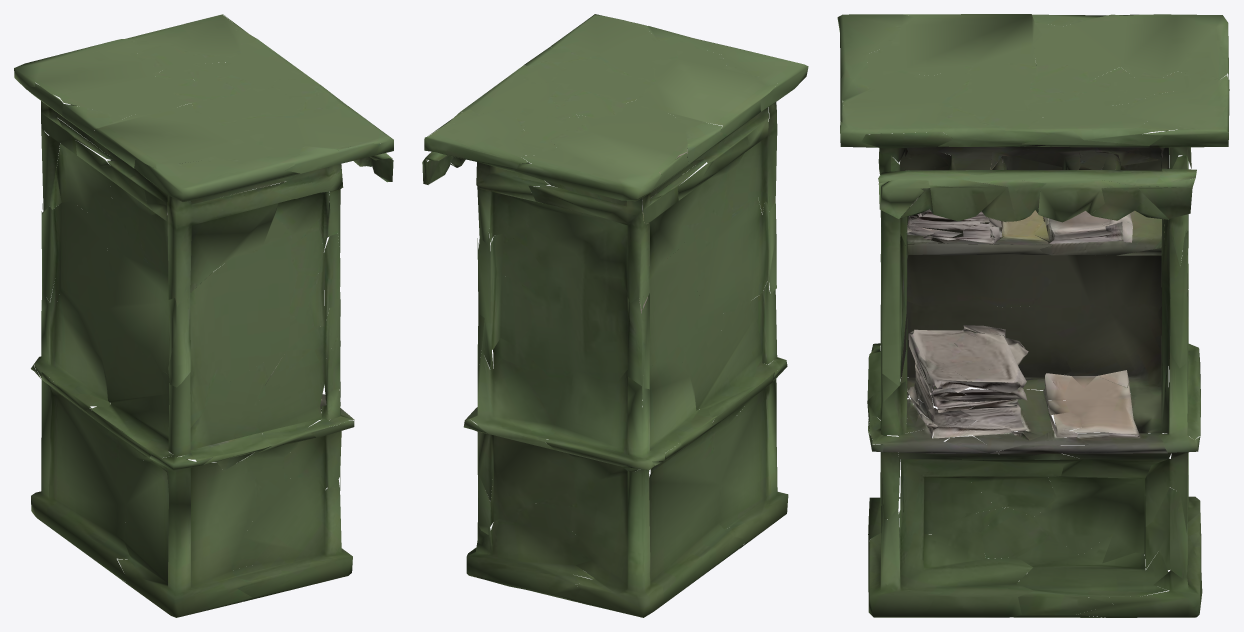
File: penn_newsstand.glb
3 views of the same model, side by side, from view 1: azimuth 30°, elevation 25°; view 2: azimuth 150°, elevation 25°; view 3: azimuth 270°, elevation 25° (orthographic). The views are drawn at different scales.
Parts seen in each view (by area): view 1: tripo_node_04bc3d65-b05a-4e4c-a969-0e01ba858dda; view 2: tripo_node_04bc3d65-b05a-4e4c-a969-0e01ba858dda; view 3: tripo_node_04bc3d65-b05a-4e4c-a969-0e01ba858dda.
Part boxes in pixels (left/top/right/bottom): tripo_node_04bc3d65-b05a-4e4c-a969-0e01ba858dda: left=14, top=14, right=393, bottom=617; tripo_node_04bc3d65-b05a-4e4c-a969-0e01ba858dda: left=422, top=14, right=808, bottom=617; tripo_node_04bc3d65-b05a-4e4c-a969-0e01ba858dda: left=837, top=14, right=1229, bottom=617.
Bounding box in the file's own units: 0.553 × 1 × 0.7051.
1 material, 1 textured.
